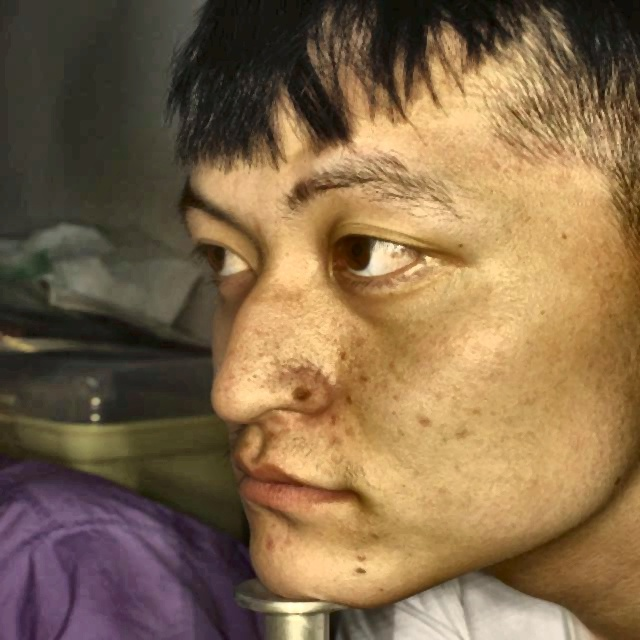comedone: (415, 406, 437, 430), (260, 538, 280, 562)
